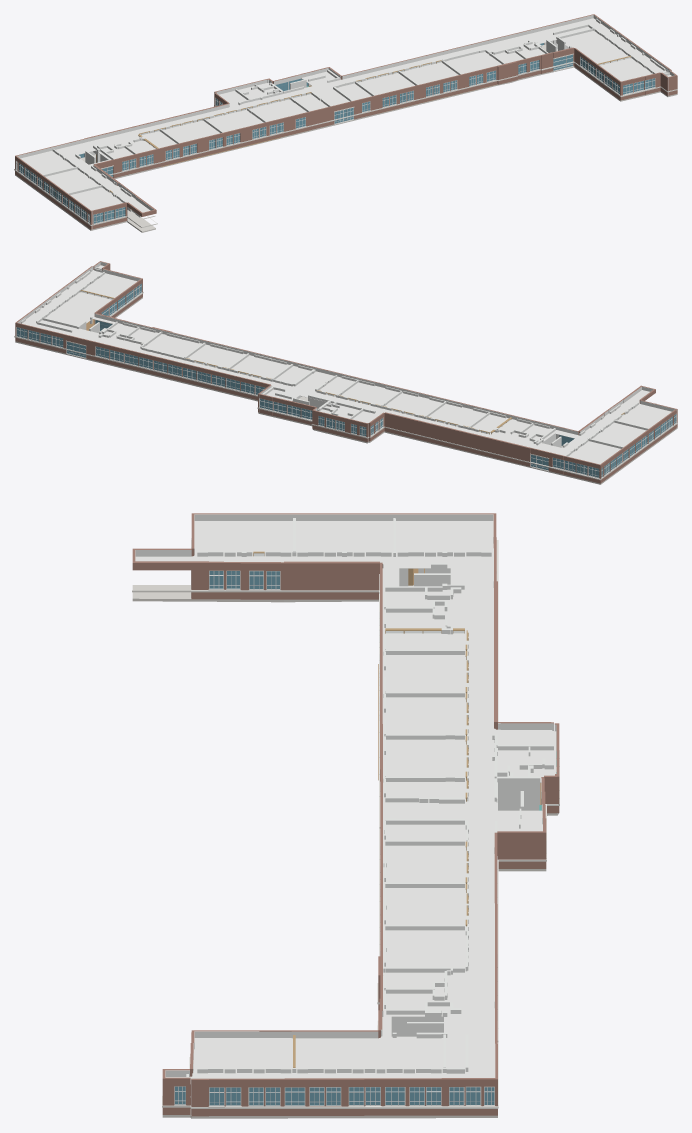
File: main_1F.glb
The picture shows the model from 3 angles, top to bottom: view 1: azimuth 30°, elevation 25°; view 2: azimuth 150°, elevation 25°; view 3: azimuth 270°, elevation 25°; orthographic projection. The views are drawn at different scales.
Parts seen in each view (by area): view 1: main_1F__ceil, main_1F__brick, main_1F__wallIn, main_1F__glass, main_1F__frameW, main_1F__corrFloor, main_1F__white, main_1F__woodFrame, main_1F__glassIn, main_1F__rail; view 2: main_1F__ceil, main_1F__brick, main_1F__wallIn, main_1F__glass, main_1F__frameW, main_1F__white, main_1F__corrFloor, main_1F__rail, main_1F__woodFrame; view 3: main_1F__ceil, main_1F__wallIn, main_1F__brick, main_1F__glass, main_1F__white, main_1F__frameW, main_1F__corrFloor, main_1F__woodFrame.
Boxes of the visible parts, <box> form: main_1F__ceil: <box>20,18,671,212</box>; main_1F__brick: <box>15,14,677,229</box>; main_1F__wallIn: <box>17,15,674,228</box>; main_1F__glass: <box>19,43,654,223</box>; main_1F__frameW: <box>15,55,655,223</box>; main_1F__corrFloor: <box>15,45,677,232</box>; main_1F__white: <box>14,53,677,231</box>; main_1F__woodFrame: <box>109,56,630,192</box>; main_1F__glassIn: <box>110,57,630,193</box>; main_1F__rail: <box>16,63,654,221</box>; main_1F__ceil: <box>22,265,671,464</box>; main_1F__brick: <box>15,261,677,483</box>; main_1F__wallIn: <box>16,262,676,456</box>; main_1F__glass: <box>17,284,676,477</box>; main_1F__frameW: <box>16,283,676,478</box>; main_1F__white: <box>14,291,677,480</box>; main_1F__corrFloor: <box>15,297,677,484</box>; main_1F__rail: <box>17,291,676,476</box>; main_1F__woodFrame: <box>80,290,624,434</box>; main_1F__ceil: <box>135,521,556,1084</box>; main_1F__wallIn: <box>135,514,556,1114</box>; main_1F__brick: <box>132,513,559,1116</box>; main_1F__glass: <box>175,571,494,1105</box>; main_1F__white: <box>132,540,559,1108</box>; main_1F__frameW: <box>174,570,494,1106</box>; main_1F__corrFloor: <box>132,585,558,1118</box>; main_1F__woodFrame: <box>253,551,468,1067</box>.
Size of the model in its own units: 121 by 3.85 by 38.45.
